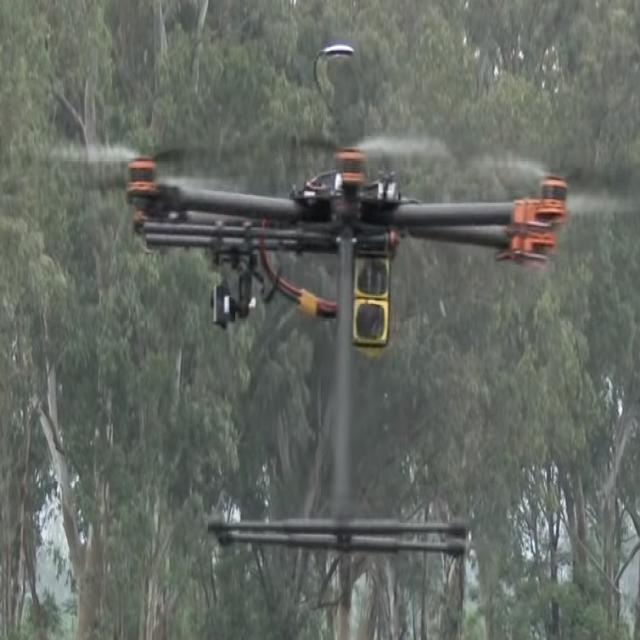drone: (42, 65, 624, 592)
